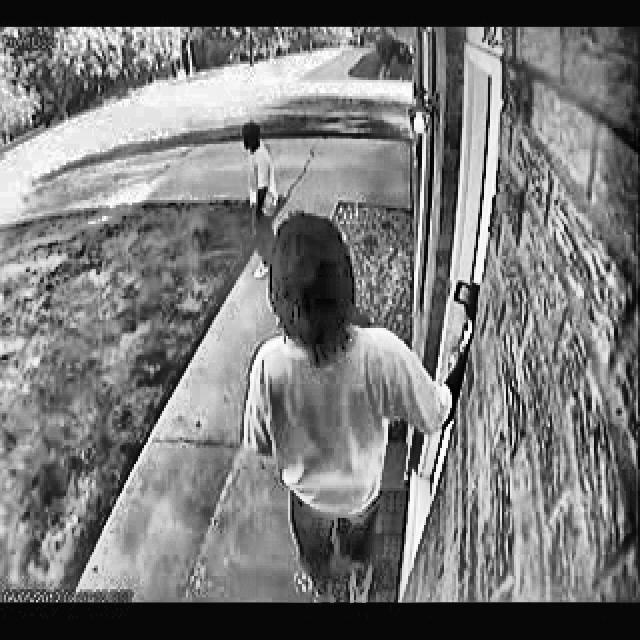burglary: (245, 210, 484, 602), (238, 116, 278, 281)
